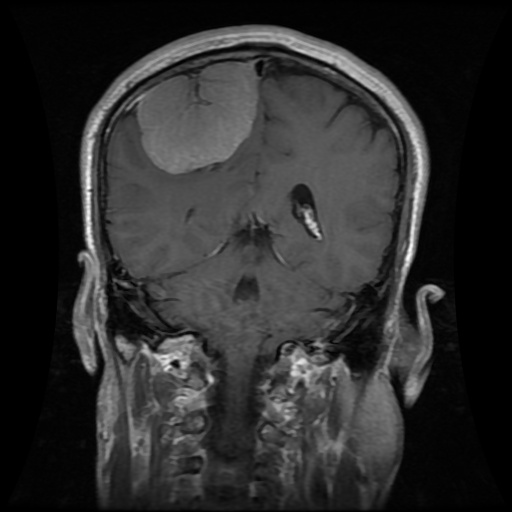meningioma: (136, 59, 258, 174)
